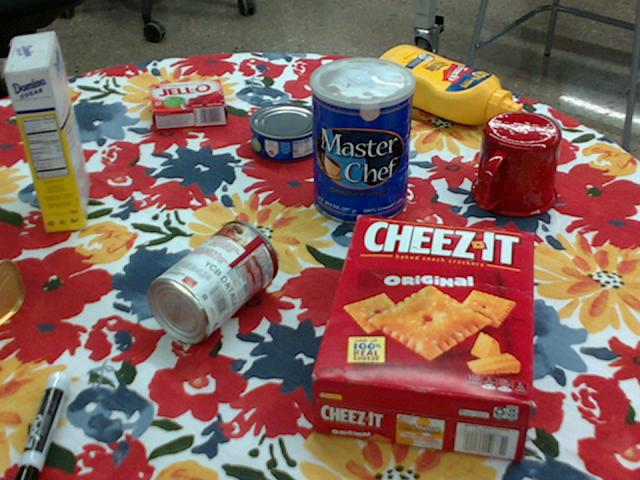cracker_box: (309, 218, 533, 461)
gelatin_box: (149, 81, 225, 131)
large_marker: (9, 371, 70, 479)
master_chef_can: (311, 57, 416, 226)
mug: (469, 112, 561, 218)
mustard_bottle: (369, 44, 520, 125)
potted_meat_can: (0, 258, 24, 323)
sugar_box: (5, 30, 89, 232)
tomato_soup_can: (146, 221, 277, 344)
tuna_fish_can: (248, 103, 322, 162)
